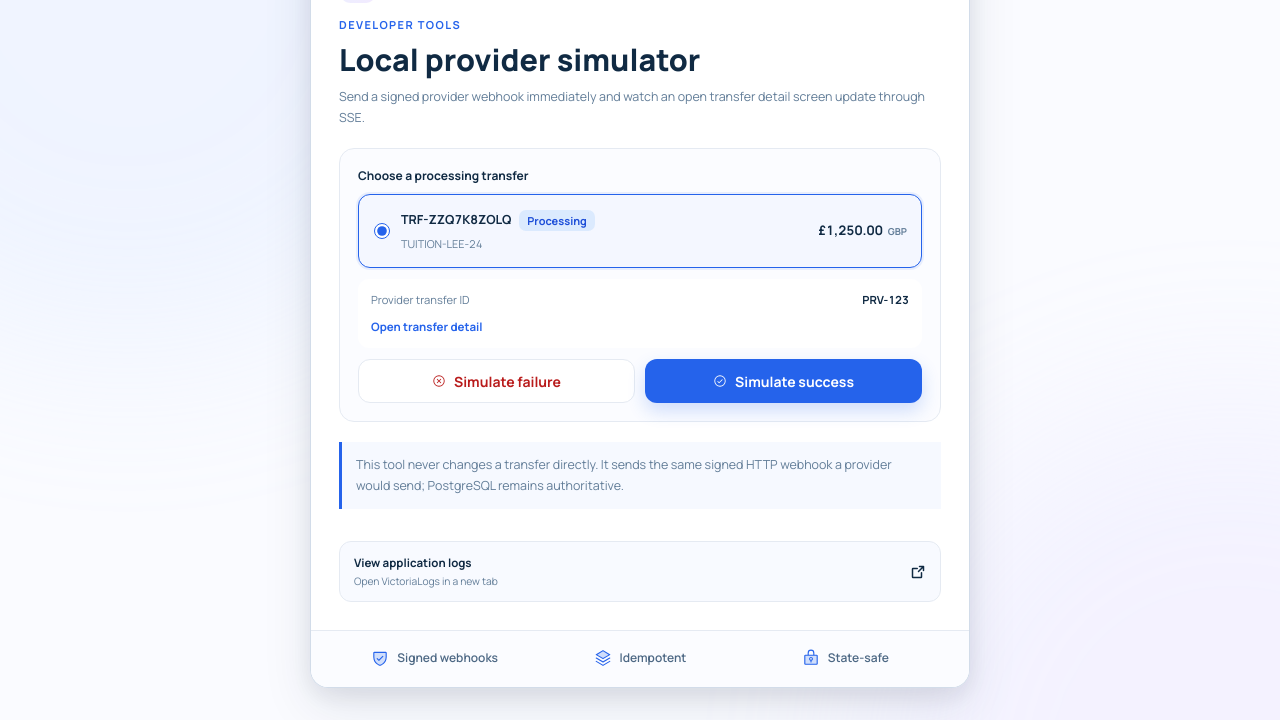
Test: ProviderSimulatorScreen › cancels confirmation without sending a webhook
The width and height of the screenshot is (1280, 720).
(page scrolled)
Click the button "Simulate success": (784, 381) [645,359,922,403]
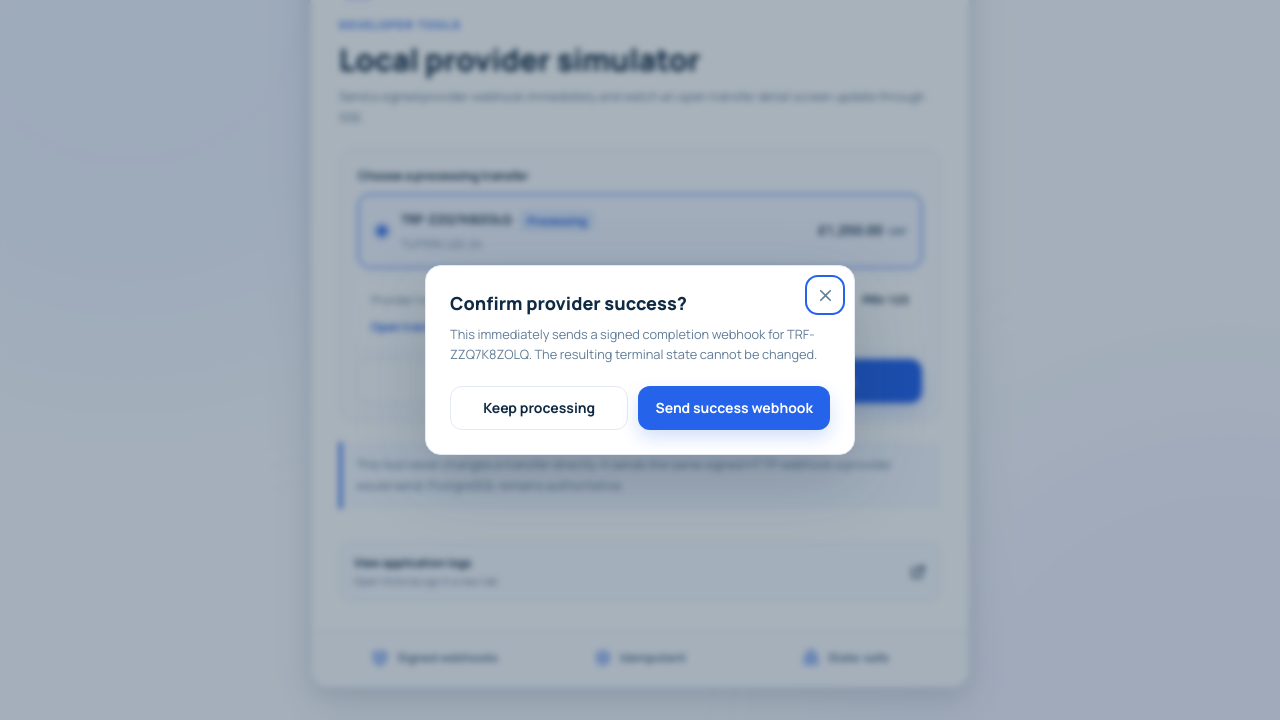
Click the button "Keep processing": (539, 408) [450,386,628,430]
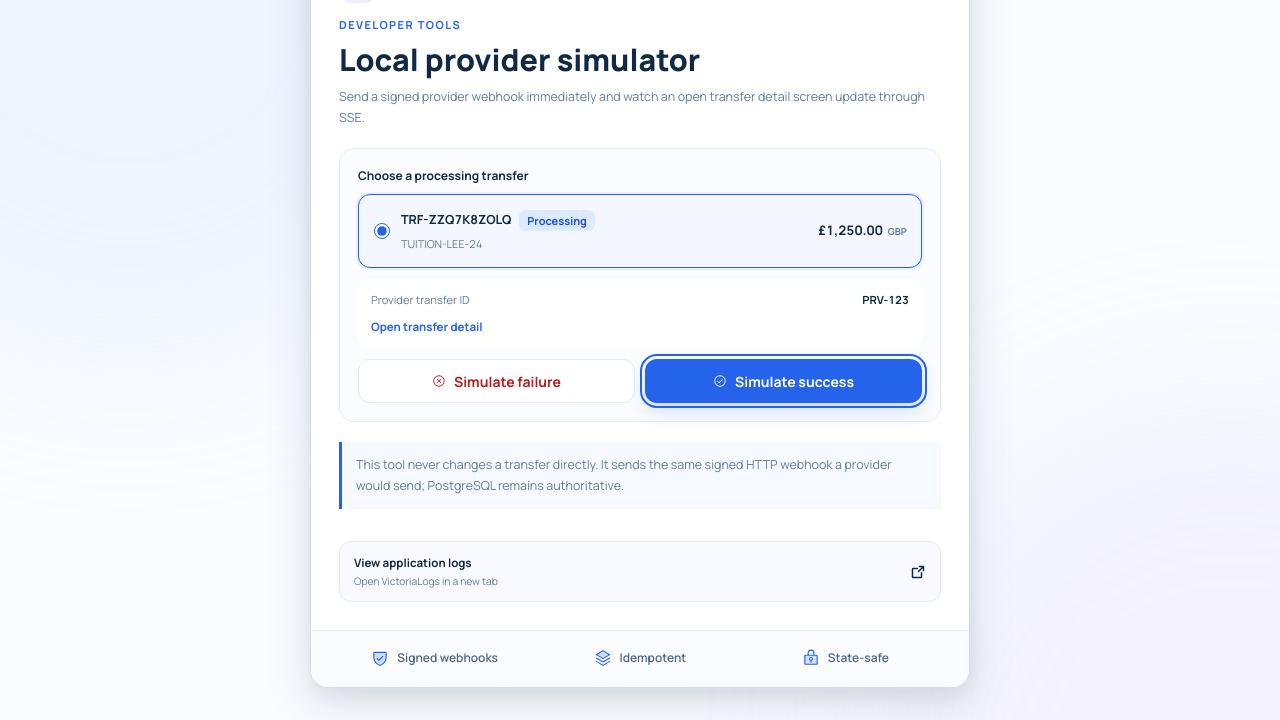
expect the dialog is gone: met
